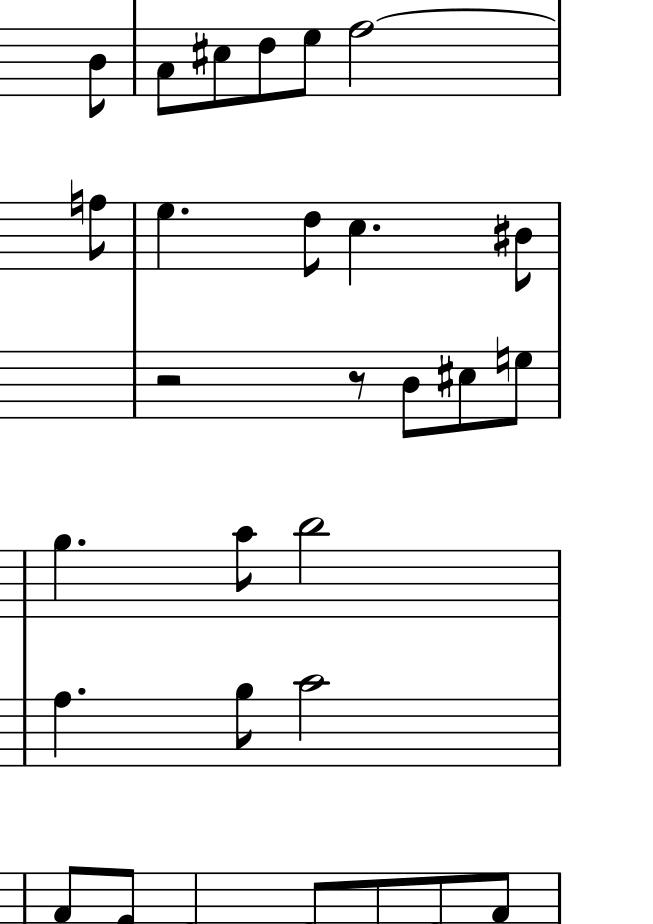2_10: (295, 672, 328, 768)
2_11: (296, 516, 327, 619)
2_8: (347, 20, 373, 97)
4_5: (346, 202, 368, 288)
4_7: (155, 201, 176, 270)
4_8: (51, 689, 73, 769)
4_9: (52, 530, 72, 618)
8_10: (233, 525, 257, 620)
8_3: (154, 28, 176, 119)
8_4: (87, 28, 108, 121), (514, 202, 534, 295), (401, 350, 421, 441)
8_5: (211, 25, 231, 110), (457, 348, 477, 433)
8_6: (256, 27, 277, 104), (302, 201, 322, 280)
8_7: (506, 350, 533, 428), (295, 26, 321, 98)
8_8: (87, 193, 108, 271)
8_9: (234, 682, 255, 769)
Natural: (494, 334, 510, 385), (68, 178, 84, 227)
Rests2: (152, 372, 184, 389)
Rests8: (348, 368, 369, 401)
Sharp: (492, 211, 512, 260), (190, 30, 210, 78), (435, 353, 455, 401)
Single_barline: (550, 699, 567, 765), (16, 550, 32, 618), (551, 551, 567, 617), (16, 698, 32, 764), (127, 28, 143, 92), (126, 351, 142, 415), (552, 202, 567, 270), (128, 203, 143, 270), (552, 351, 566, 418)
Slur: (373, 8, 556, 23)
dot: (368, 220, 383, 234), (74, 685, 88, 698), (178, 205, 191, 218), (75, 536, 87, 549)
